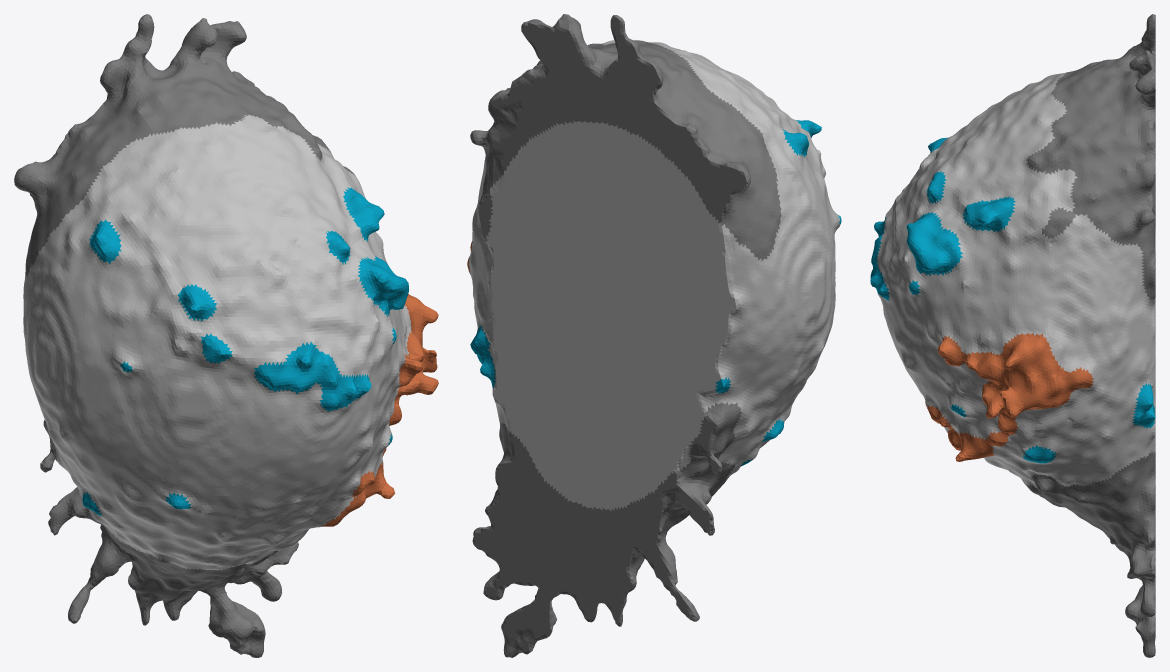
3 views of the same model, side by side, from view 1: azimuth 30°, elevation 25°; view 2: azimuth 150°, elevation 25°; view 3: azimuth 270°, elevation 25° (orthographic). The views are drawn at different scales.
Size of the model in its own units: 91.81 by 161 by 69.79.
